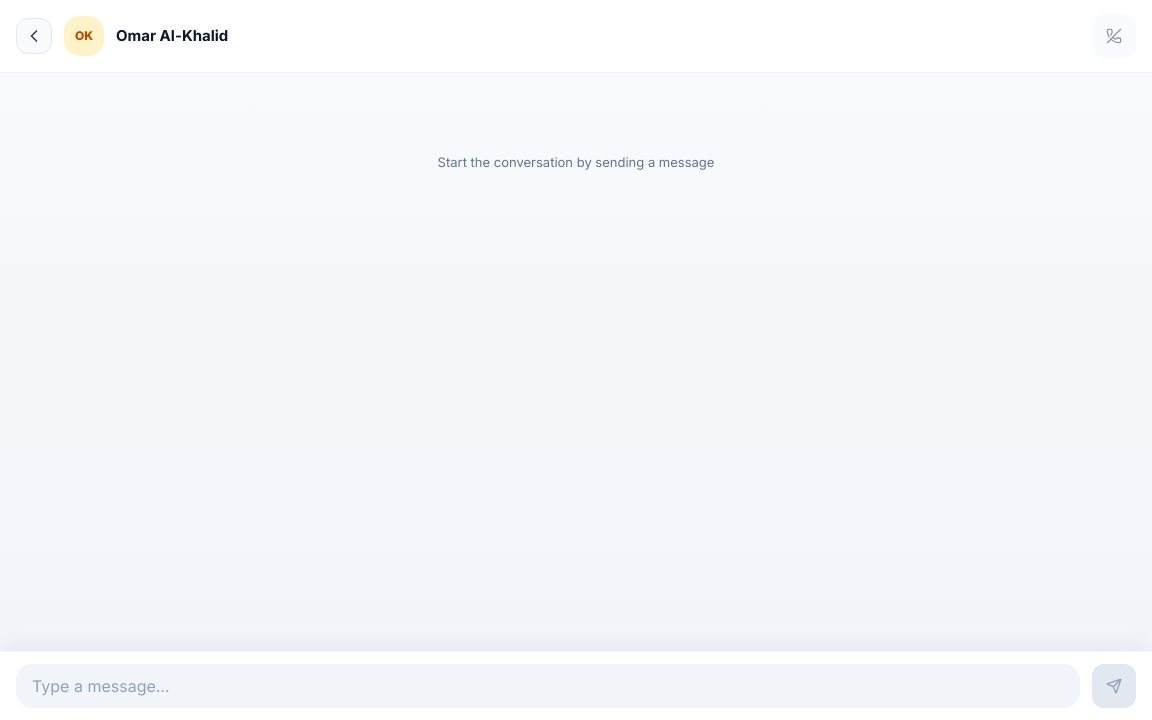
it: ChatScreen — R12 send recovery and replies › two messages with the same text are two sends with two keys, and both are shown
This screenshot has width=1152, height=720.
Expected: the text "Start the conversation by sending a message" is shown, [438,153,714,172]
Type "ok" into the text box with test id "chat-input". click: {"x": 548, "y": 686}
box: [32,674,1064,698]
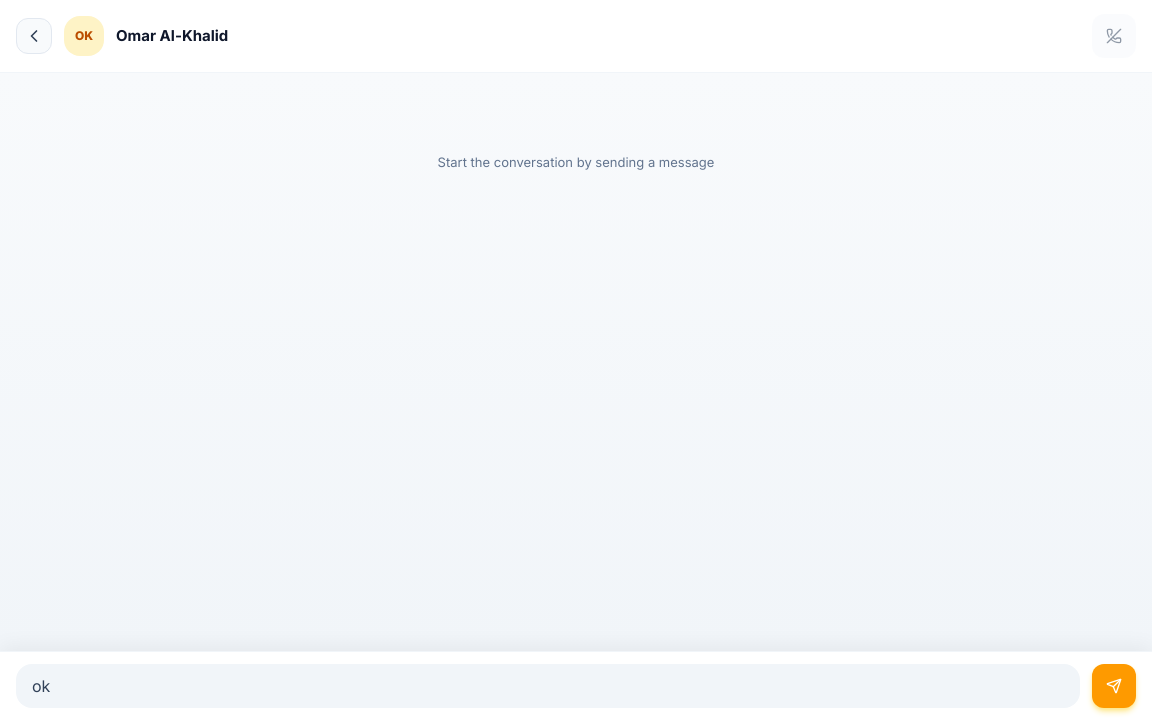
Click the button with test id "chat-send". click: {"x": 1114, "y": 686}
box: [1092,664,1136,708]
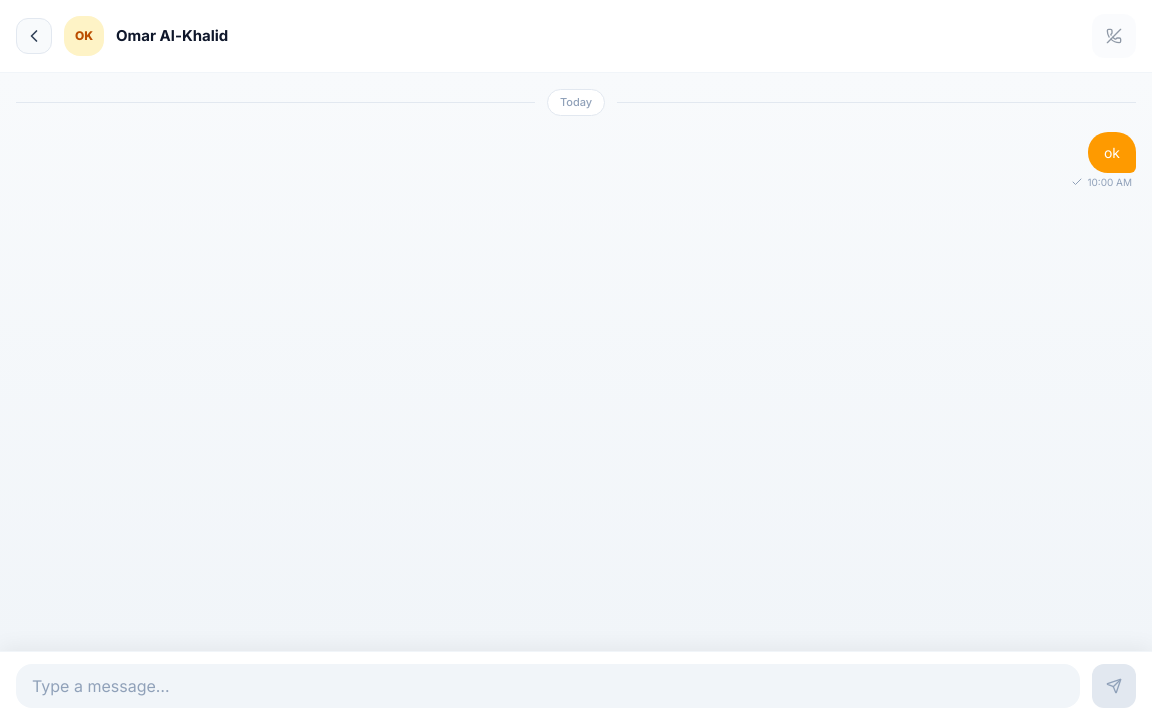
Expected: the button with test id "chat-send" is disabled, [1092,664,1136,708]
Type "ok" into the text box with test id "chat-input". click: {"x": 548, "y": 686}
box: [32,674,1064,698]
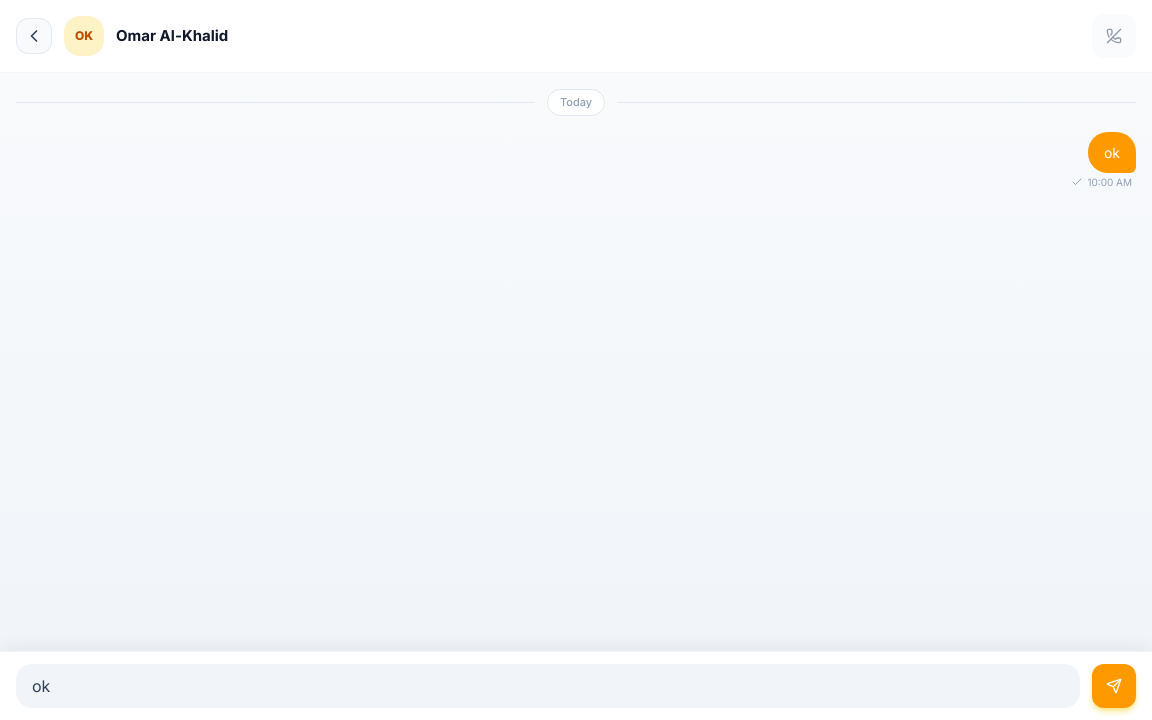
Expected: the button with test id "chat-send" is enabled
Click the button with test id "chat-send". click: {"x": 1114, "y": 686}
box: [1092,664,1136,708]
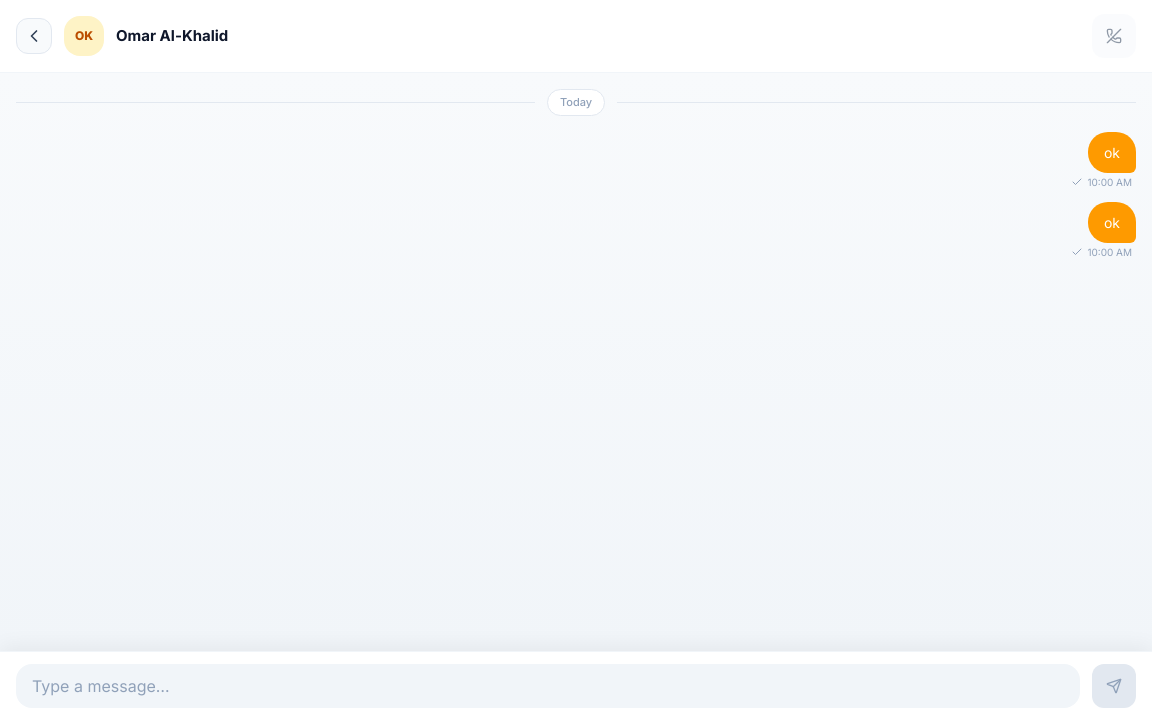
Expected: the text "ok" is shown 2 times, [1088,132,1136,172]; [1088,202,1136,242]
